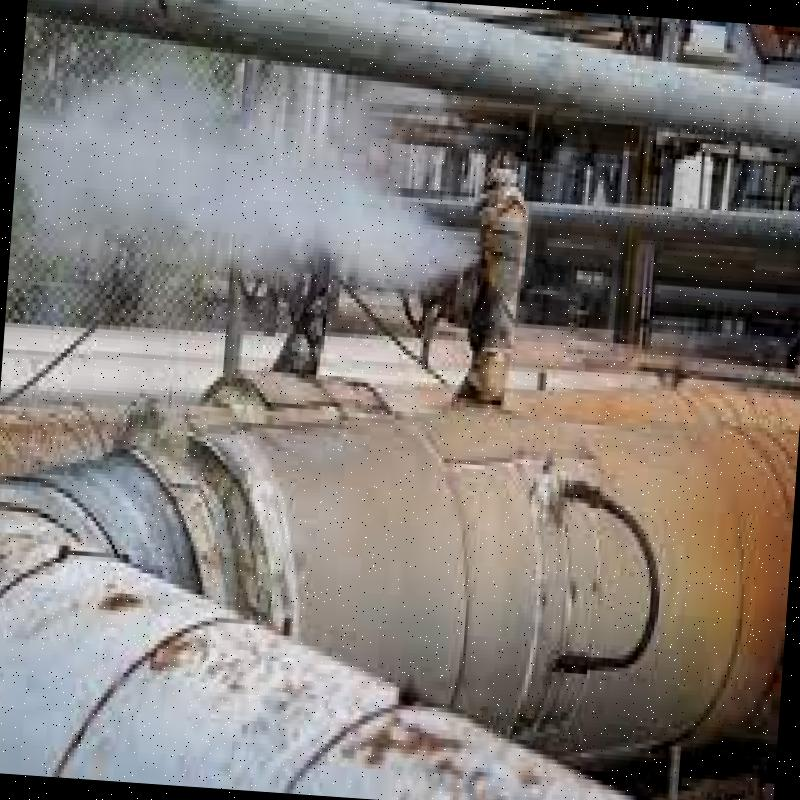Fracture: (318, 149, 584, 451)
